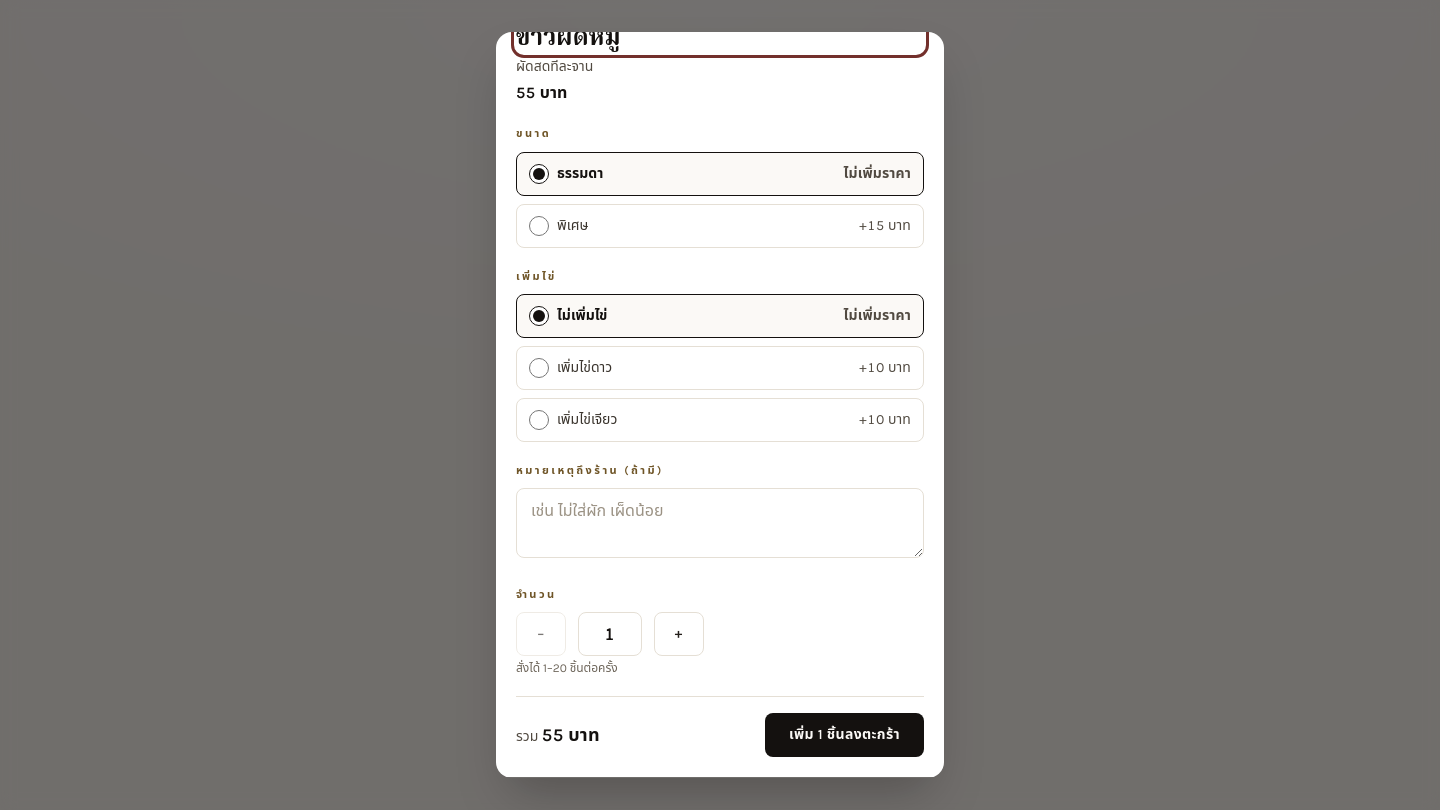
Test: ป๊อปอัปสั่งซื้อจากการ์ดเมนู › ปุ่มลดปิดอยู่ที่ 1 — กดยังไงจำนวนก็ไม่ต่ำกว่า 1
(page scrolled)
Click the button named "ลดจำนวน" at (541, 634), box x1=516 y1=612 x2=566 y2=656
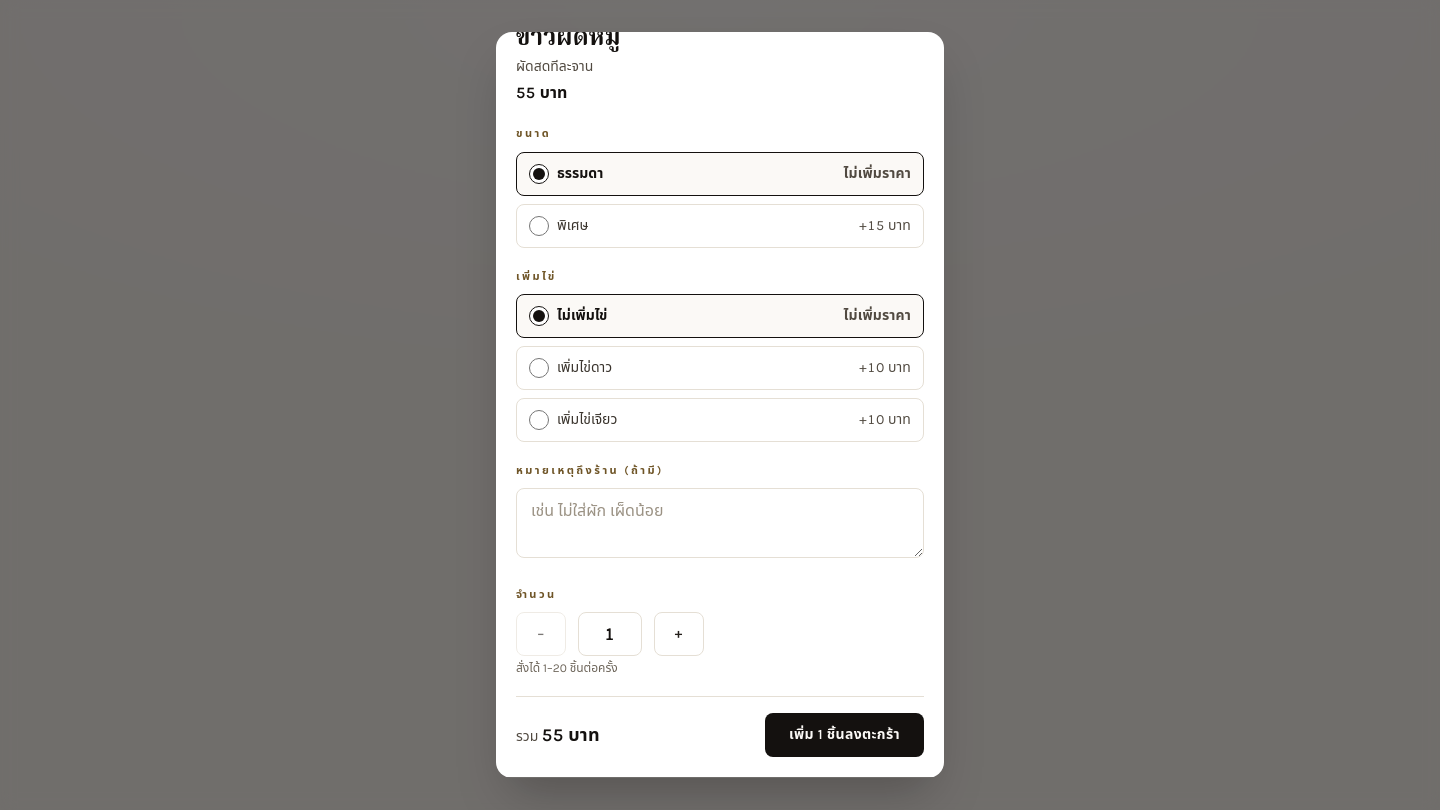
Expected: the field named "จำนวนที่สั่ง" holds "1", x1=578 y1=612 x2=642 y2=656
Click the button named "เพิ่มจำนวน" at (679, 634), box x1=654 y1=612 x2=704 y2=656
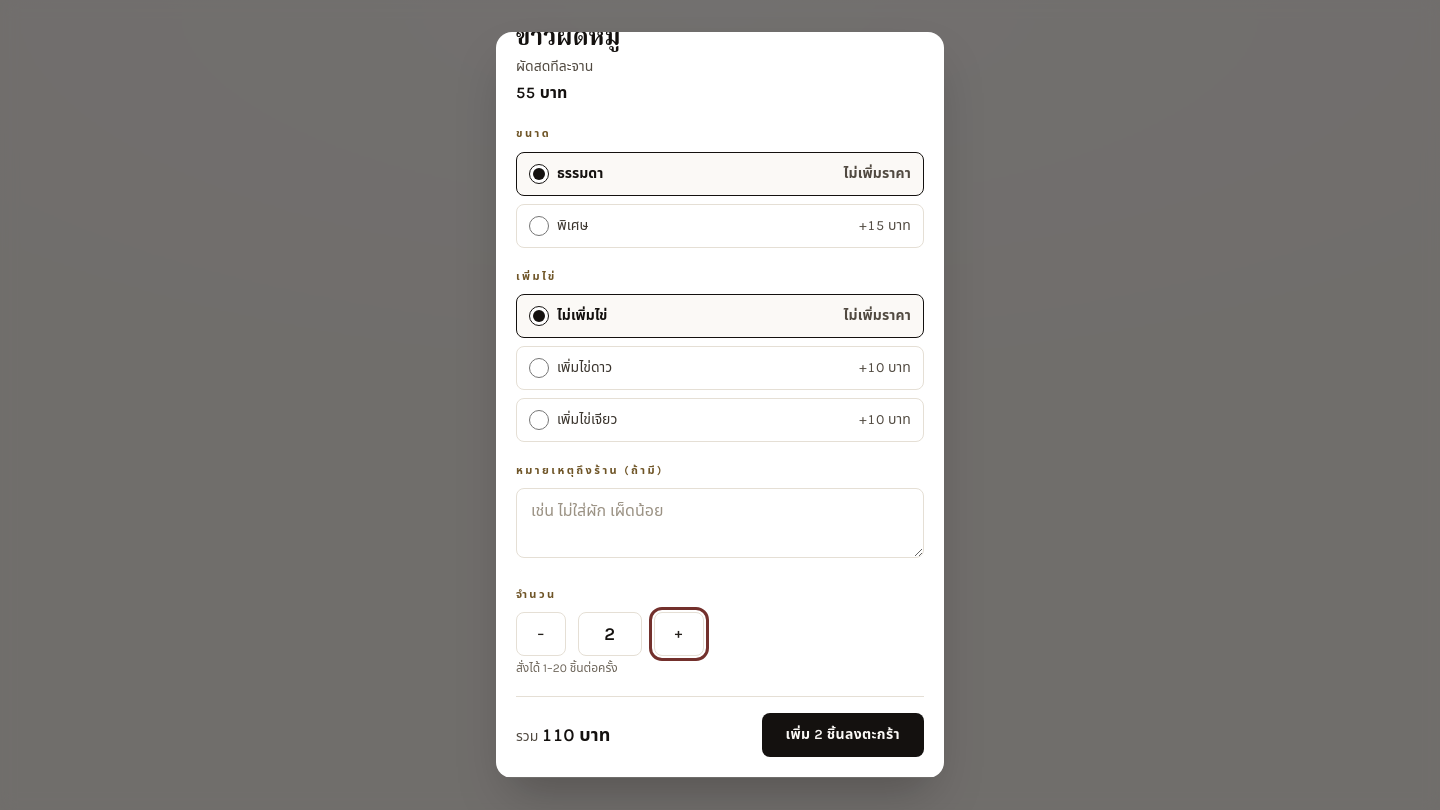
Click the button named "ลดจำนวน" at (541, 634), box x1=516 y1=612 x2=566 y2=656
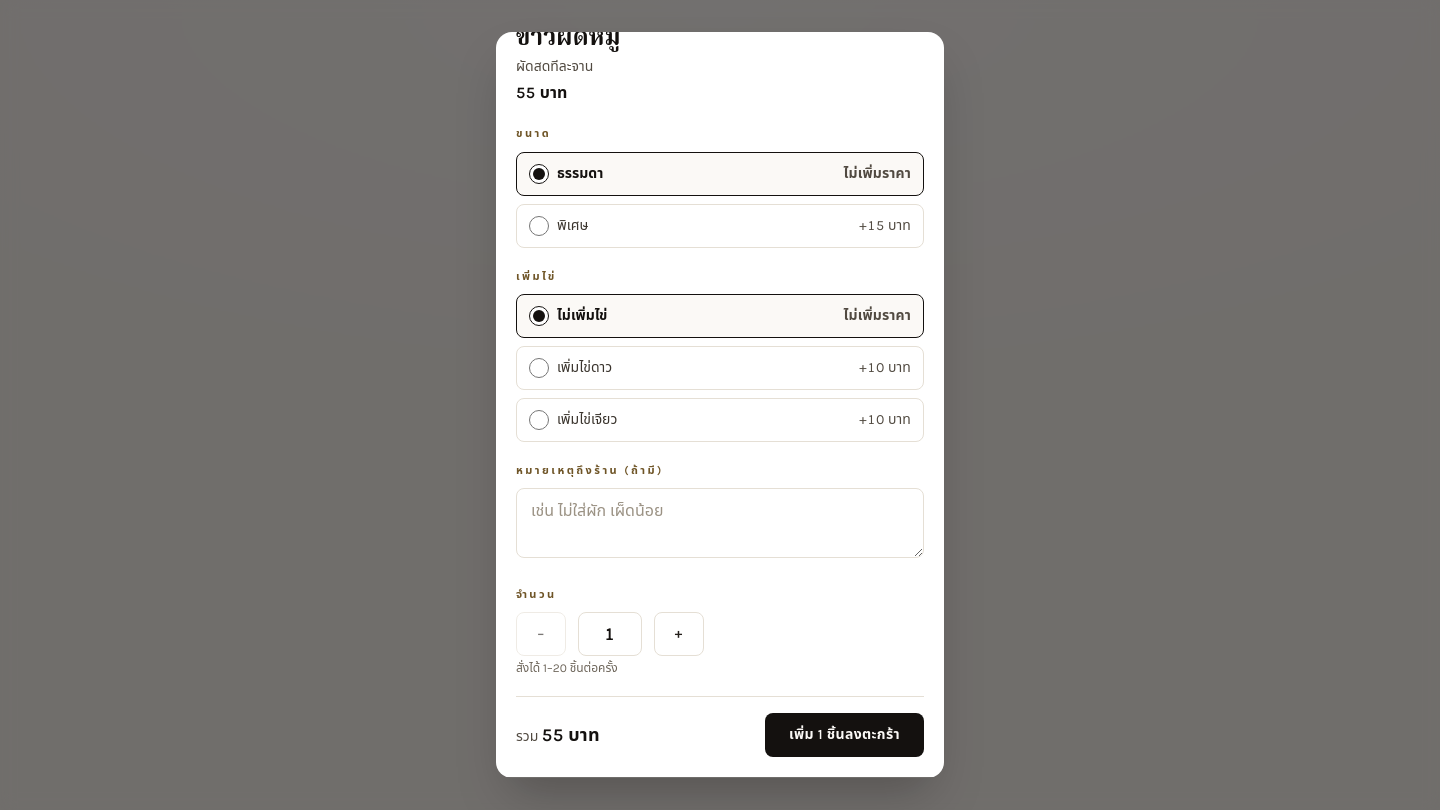
Expected: the field named "จำนวนที่สั่ง" holds "1", x1=578 y1=612 x2=642 y2=656
